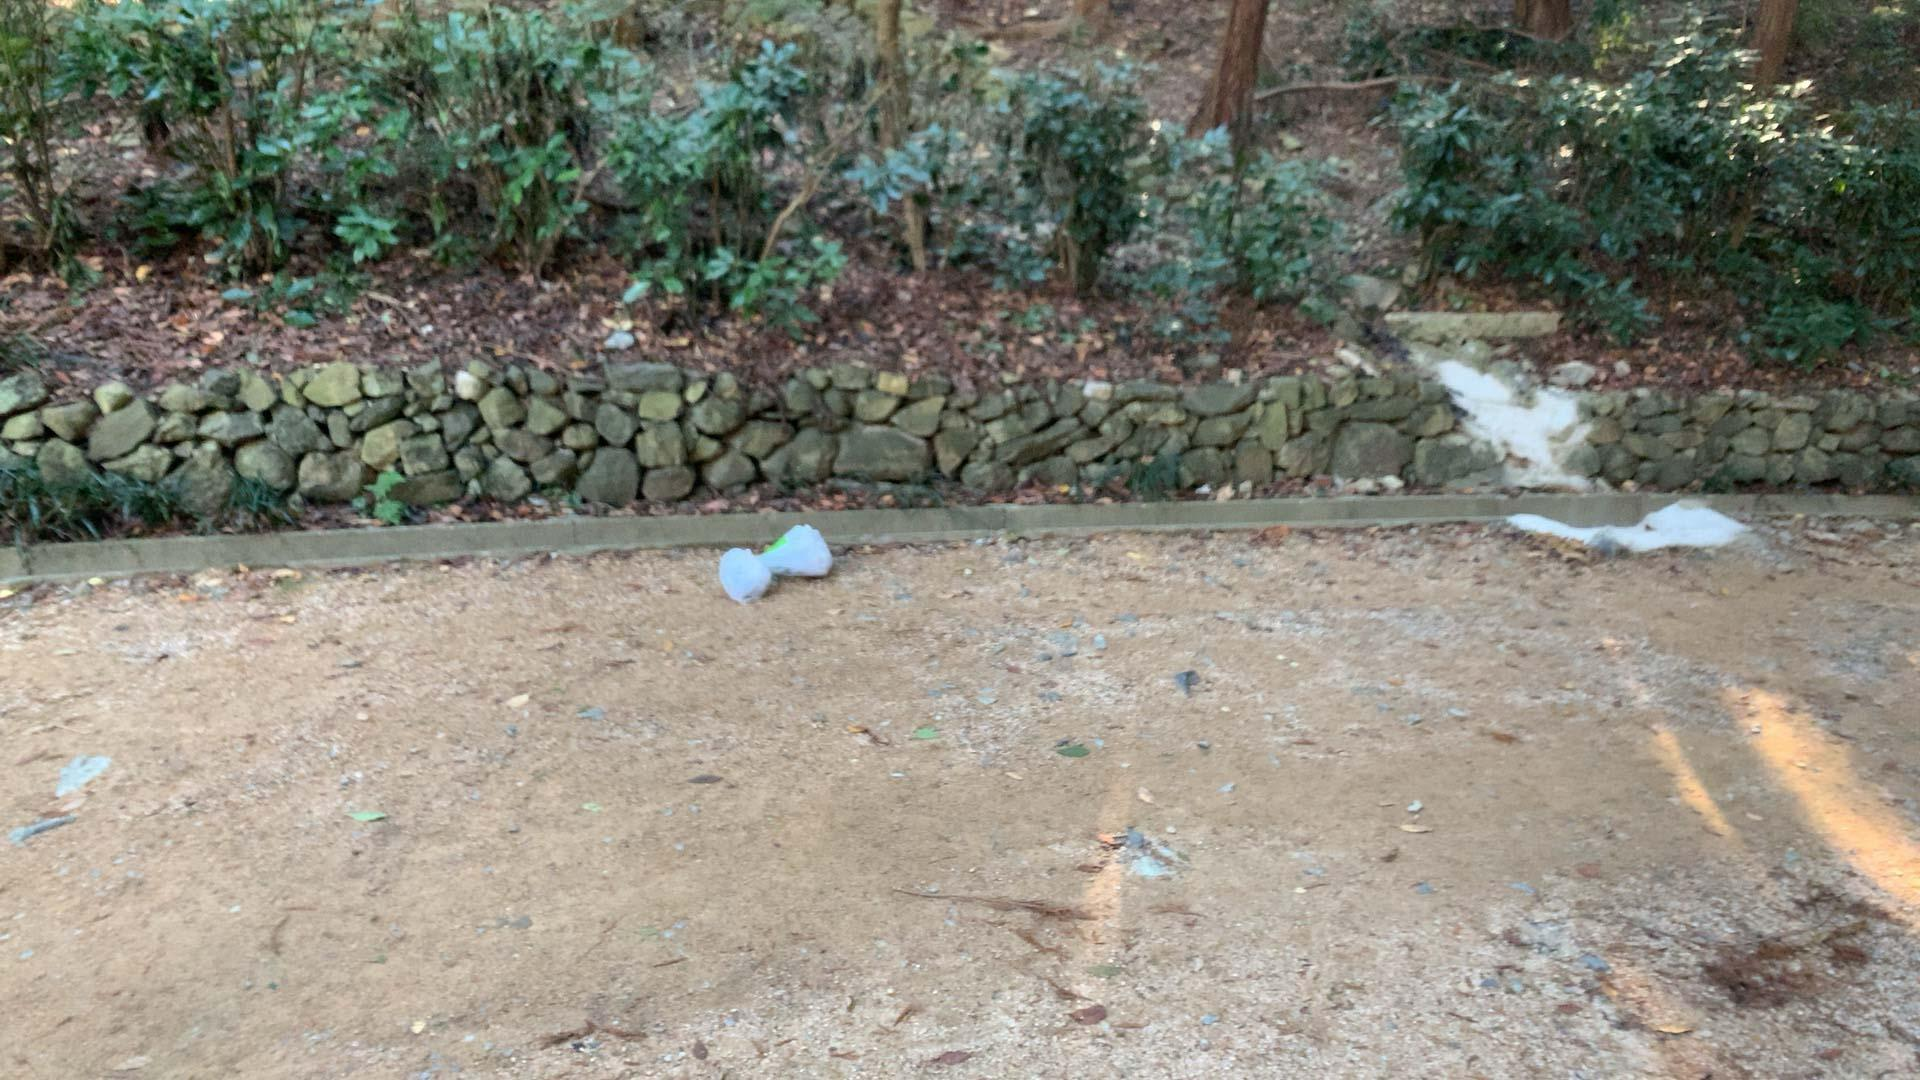white_bag: (754, 522, 835, 579), (711, 543, 773, 600)
